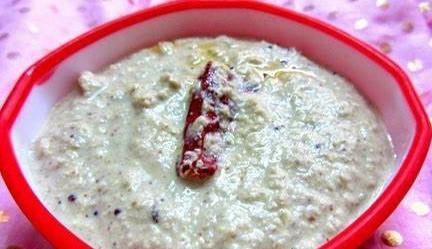CoconutChutney: (28, 35, 396, 249)
